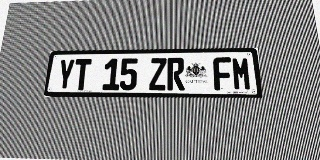1: (102, 58, 121, 90)
5: (120, 58, 138, 90)
F: (213, 57, 233, 90)
M: (231, 57, 252, 90)
R: (167, 58, 185, 90)
T: (73, 59, 92, 90)
Y: (56, 59, 75, 90)
Z: (149, 58, 167, 90)
